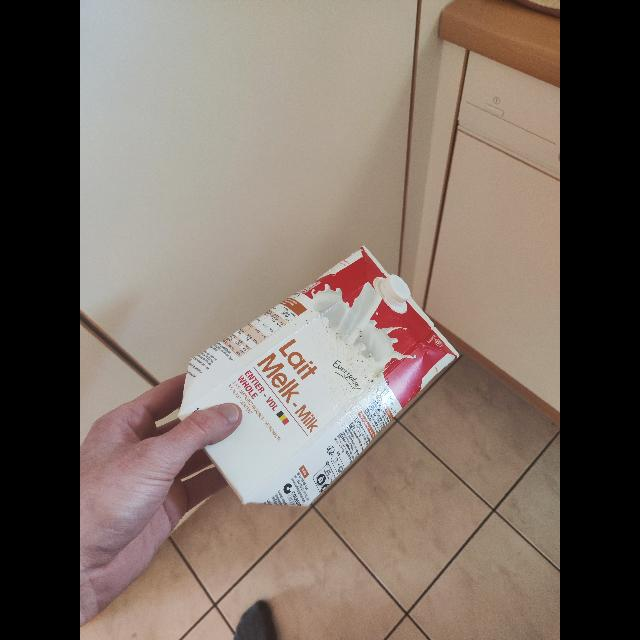Cardboard: (178, 242, 462, 504)
Plastic: (376, 268, 412, 310)
